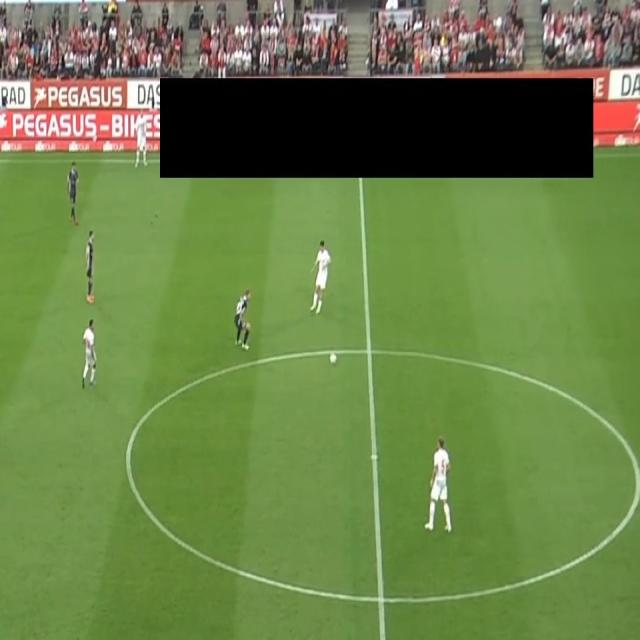ball: (329, 351, 338, 366)
